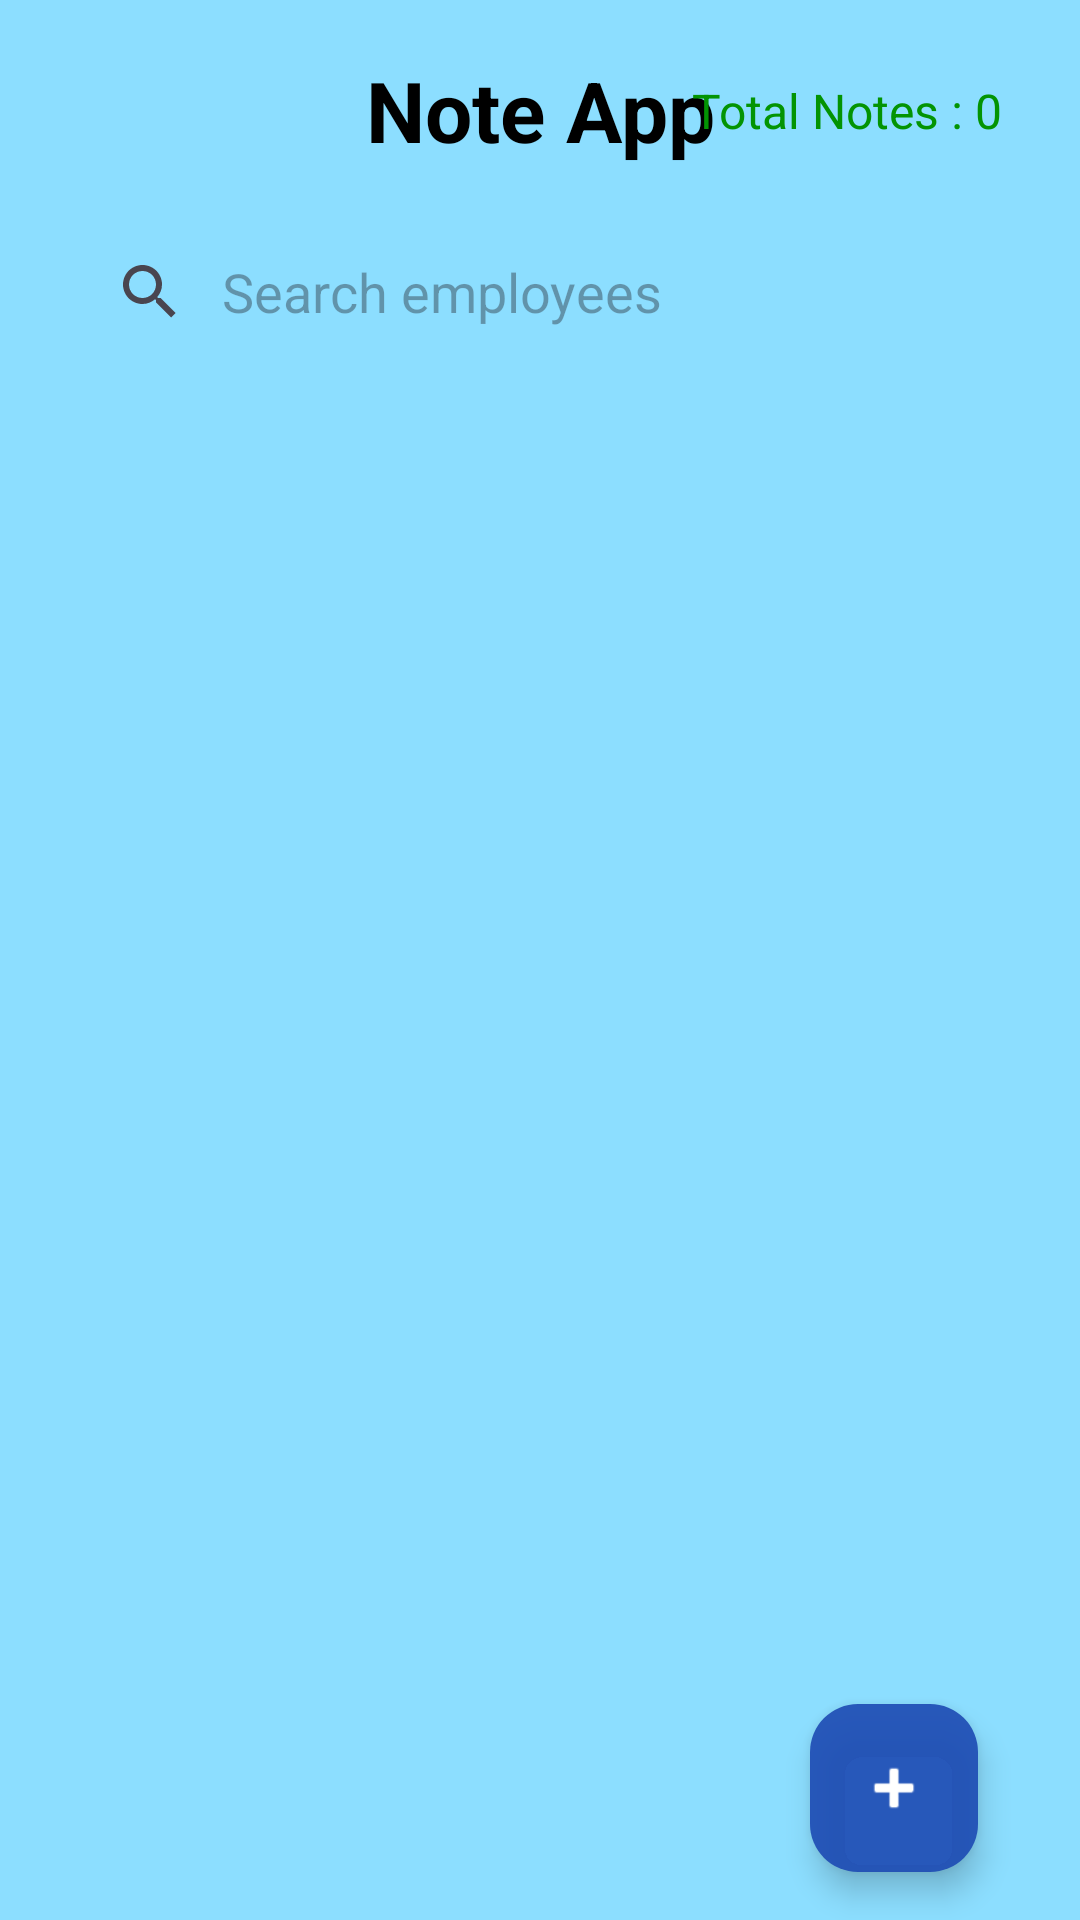

Locate icon controls on the screen. Image size 1080px×1920px, boxes as (x1, y1, x2, y2).
Add: (810, 1704, 978, 1872)
